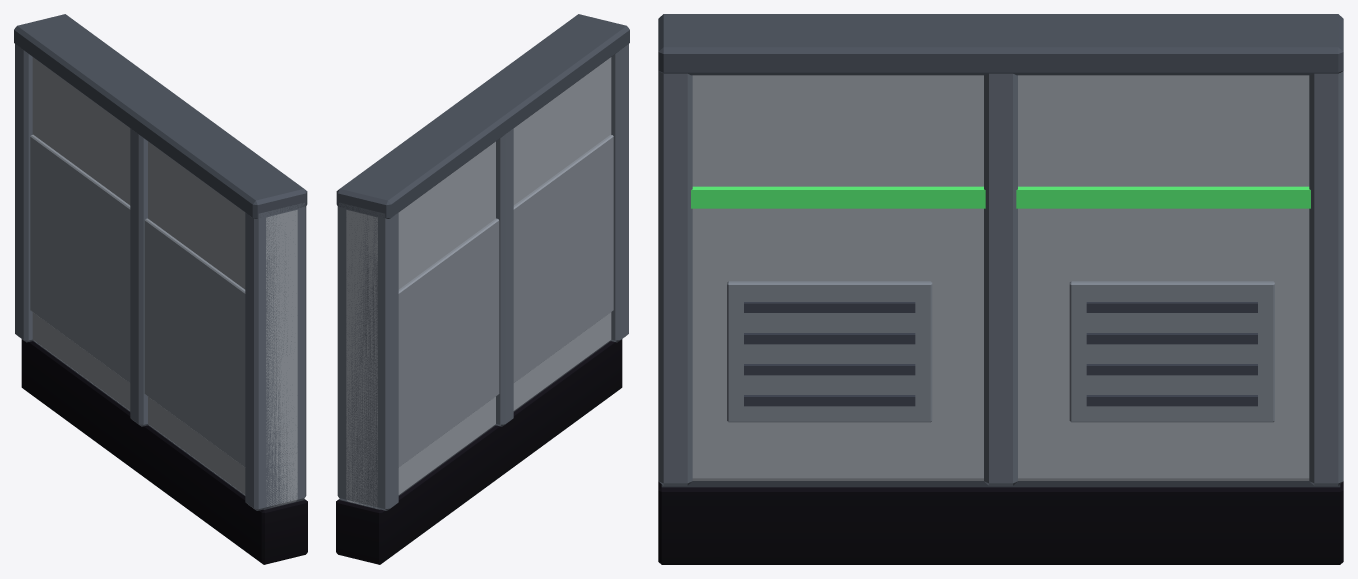
File: wall_lab.glb
3 views of the same model, side by side, from view 1: azimuth 30°, elevation 25°; view 2: azimuth 150°, elevation 25°; view 3: azimuth 270°, elevation 25° (orthographic). The views are drawn at different scales.
Visible parts, largest first — view 1: Body; view 2: Body; view 3: Body, Glow.
Part boxes in pixels (x1,y1,x2,y2): Body: (14, 14, 307, 564); Body: (336, 14, 629, 564); Body: (658, 14, 1343, 564); Glow: (691, 186, 1310, 208).
Bounding box in the file's own units: 0.52 × 3.33 × 4.
